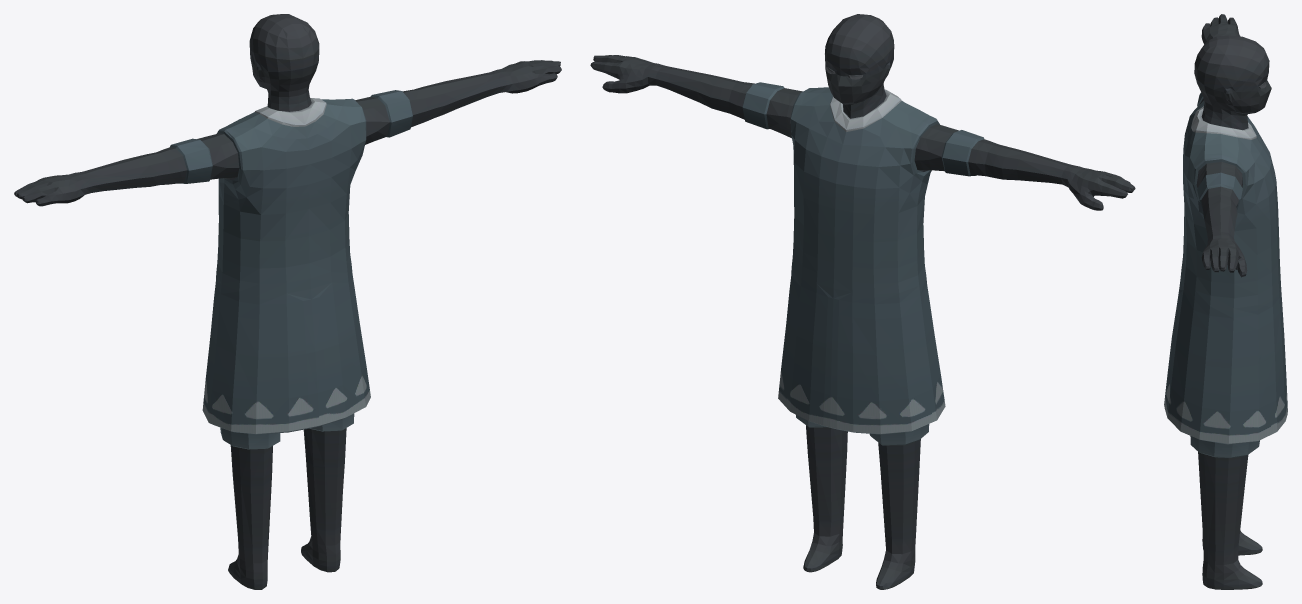
The model's file is NPC_CivilianMaleBody.glb.
The picture shows the model from 3 angles, left to right: view 1: azimuth 30°, elevation 25°; view 2: azimuth 150°, elevation 25°; view 3: azimuth 270°, elevation 25°; orthographic projection. The views are drawn at different scales.
Visible parts, largest first — view 1: NPC_CivilianMaleBody; view 2: NPC_CivilianMaleBody; view 3: NPC_CivilianMaleBody.
Boxes of the visible parts, bbox=[...] form: NPC_CivilianMaleBody: bbox=[14, 14, 561, 589]; NPC_CivilianMaleBody: bbox=[590, 14, 1135, 589]; NPC_CivilianMaleBody: bbox=[1164, 14, 1287, 589].
Bounding box in the file's own units: 14.03 × 13.68 × 2.9.
Materials: 1 (1 with a texture image).
